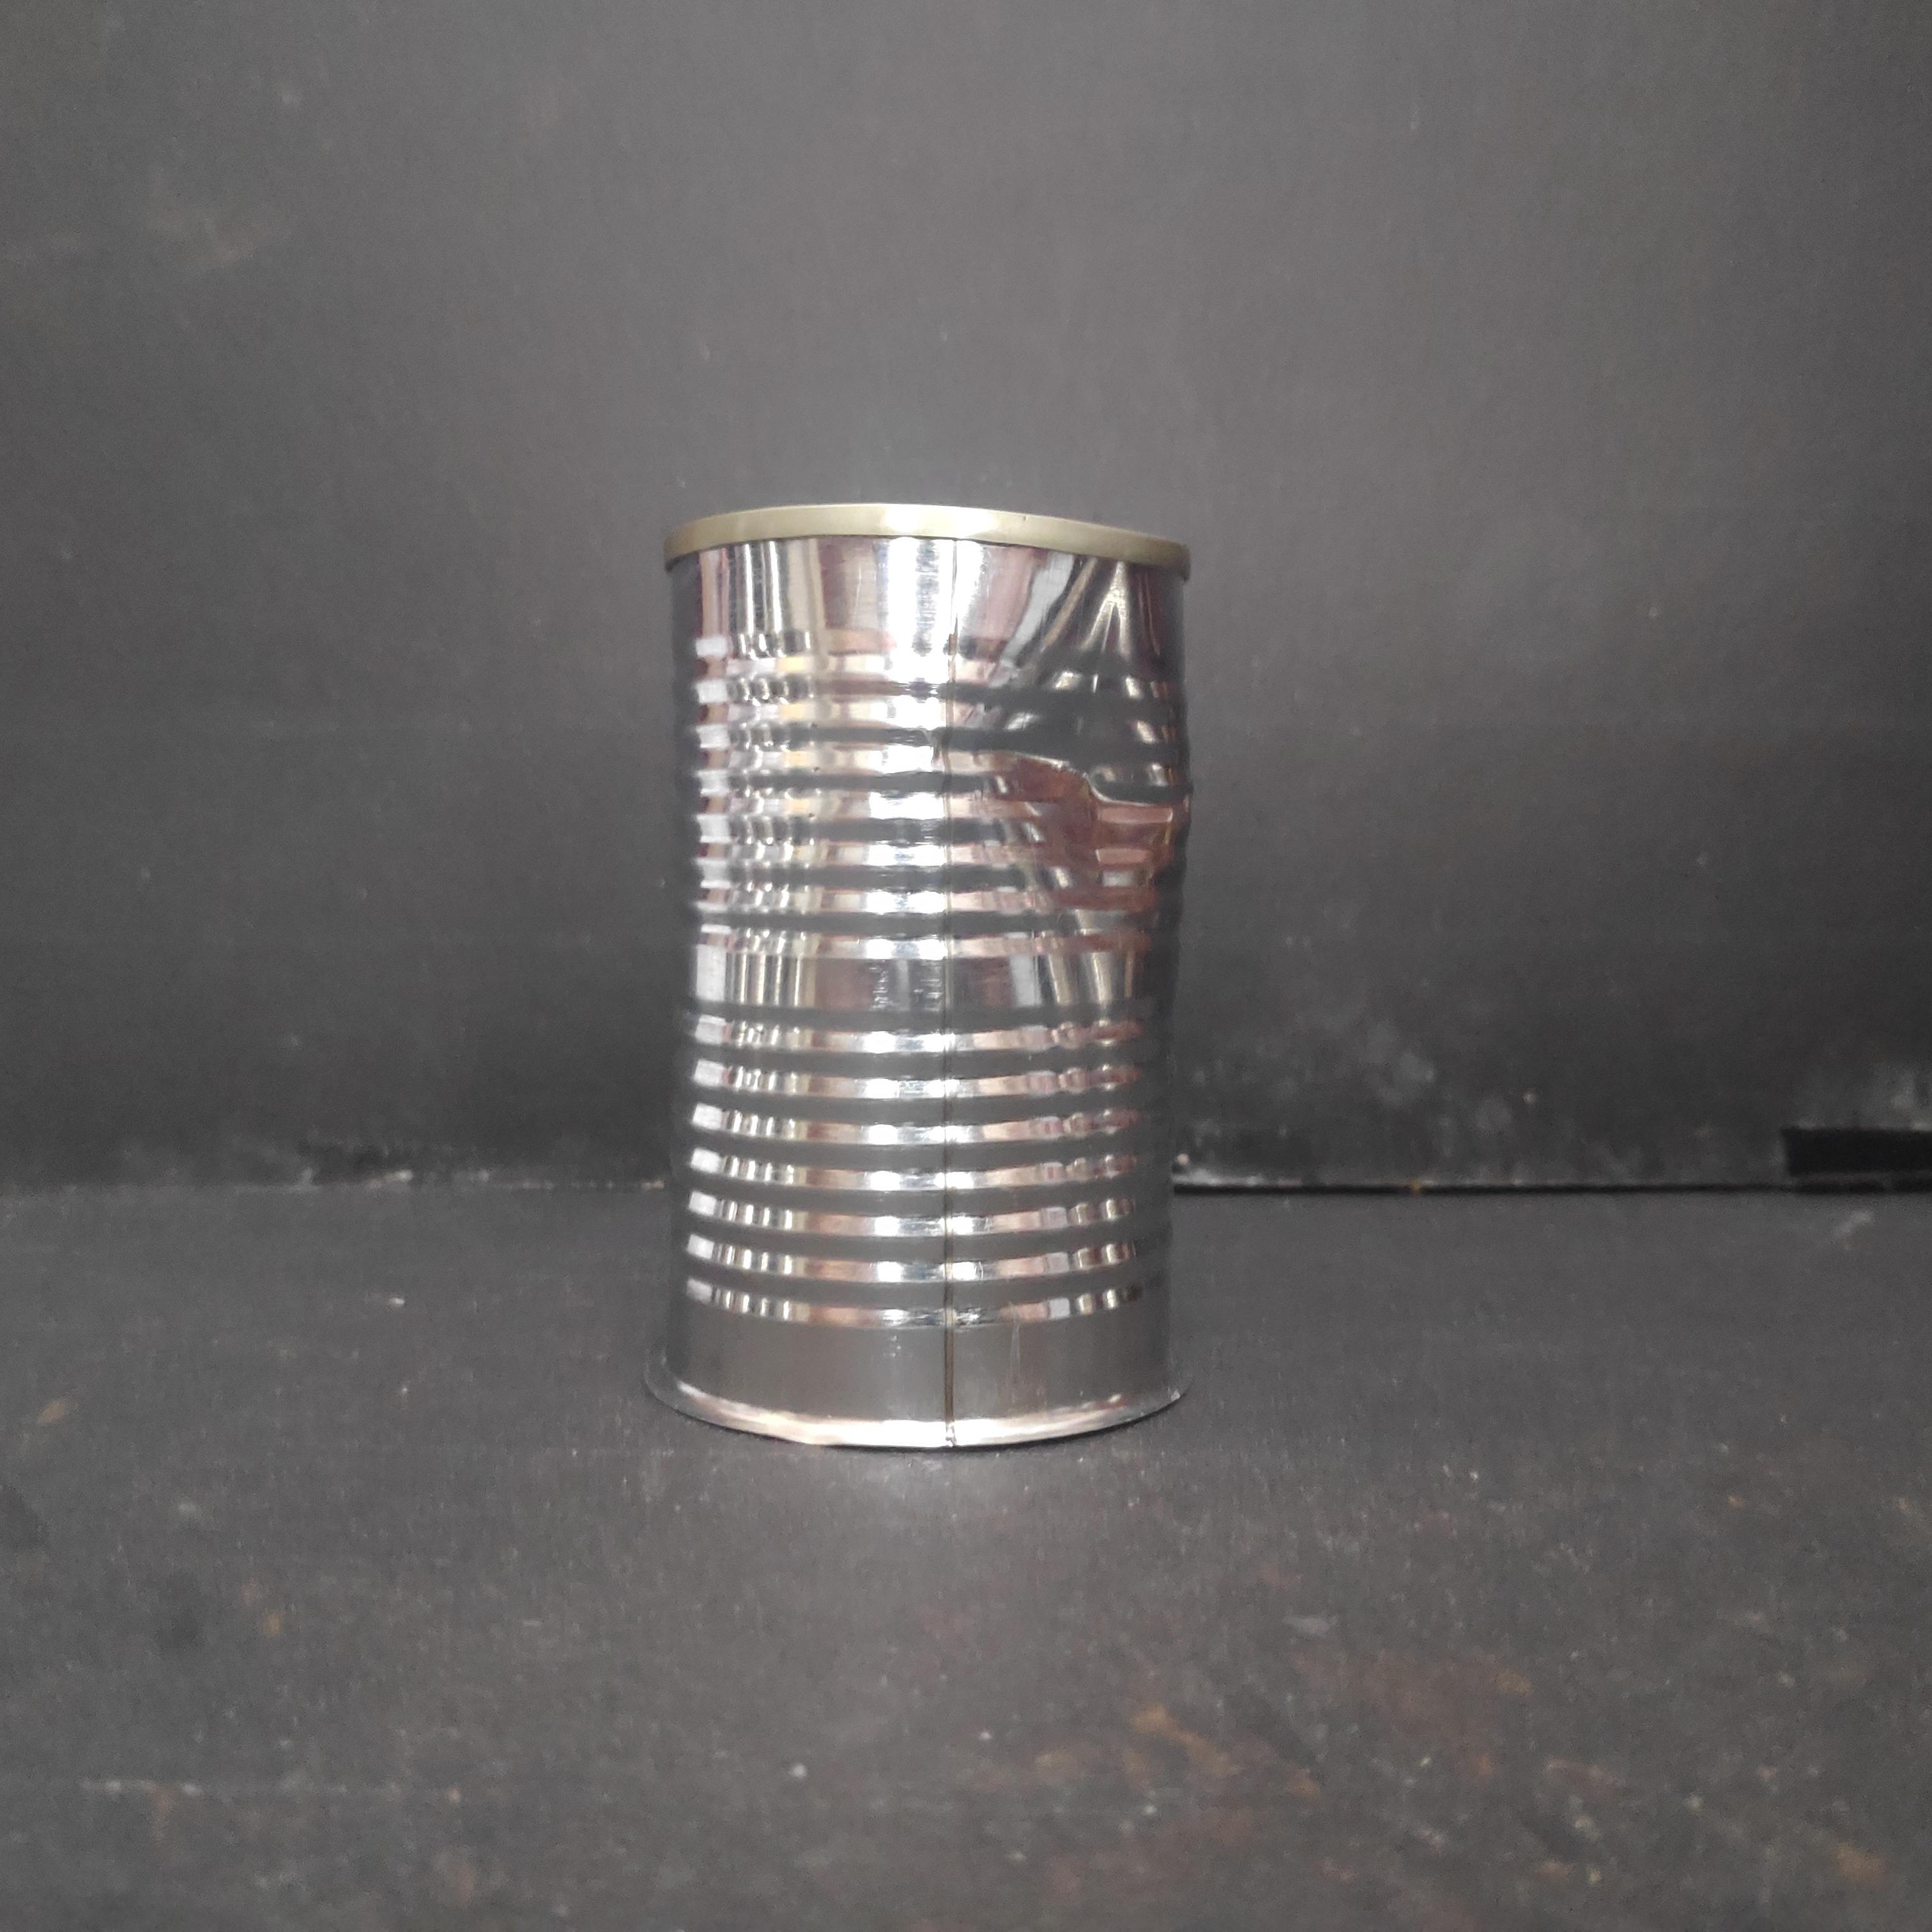Minor Defect: (646, 490, 1205, 1465)
